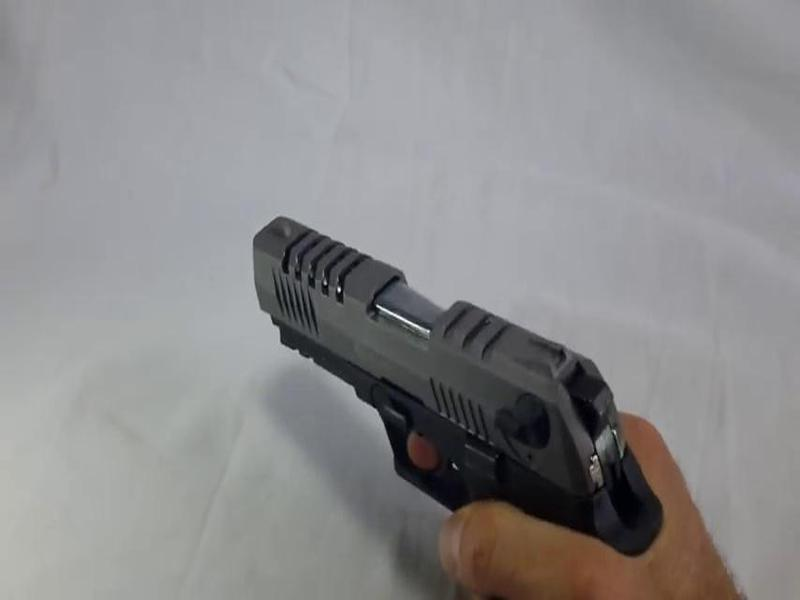Pistola: (215, 174, 717, 599)
